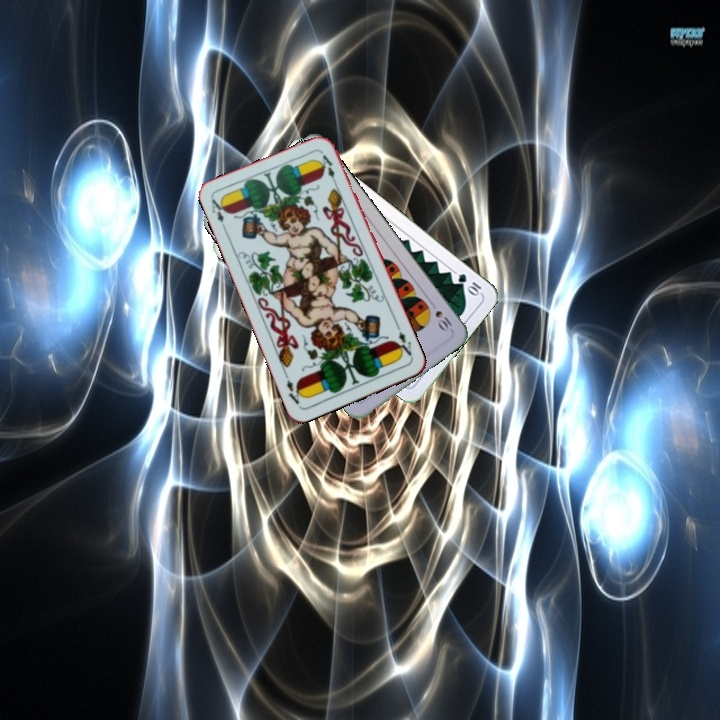EA: (392, 322, 415, 361), (207, 195, 230, 234)
G10: (454, 269, 484, 299)
S10: (426, 297, 456, 334)
